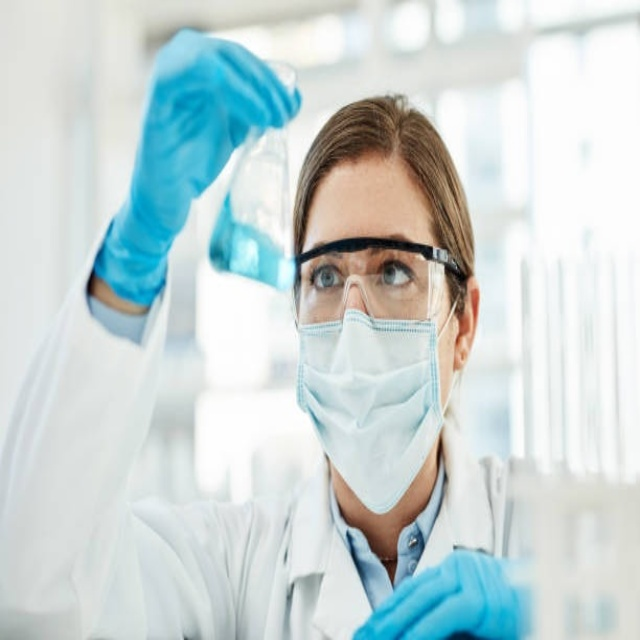Gafas: (287, 238, 465, 326), (211, 110, 295, 291)
Guantes: (93, 26, 303, 311), (349, 547, 531, 640)
Mascara: (296, 265, 456, 513)
